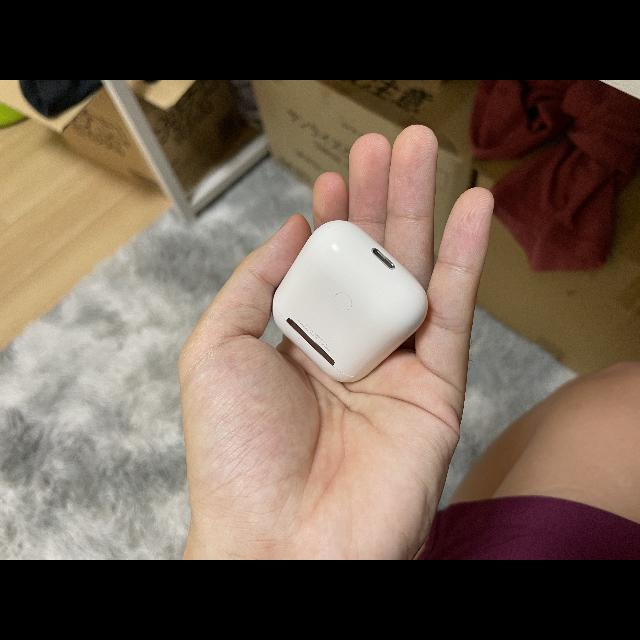airpod2: (261, 212, 429, 386)
